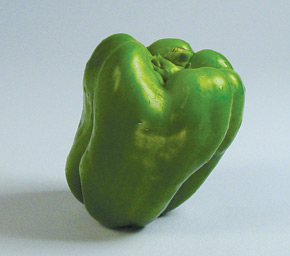capsicum: (66, 32, 246, 232)
